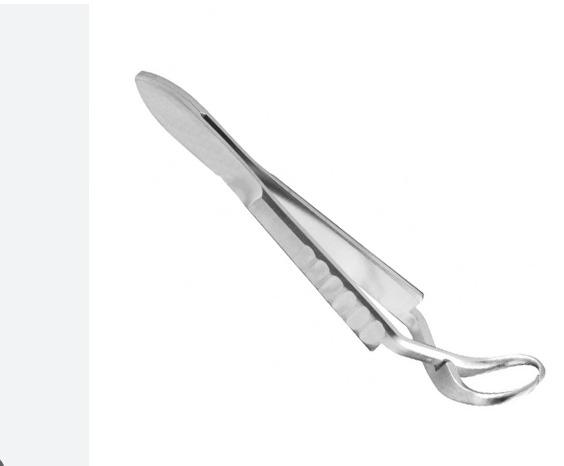Jones Towel Clamp: (124, 65, 549, 412)
